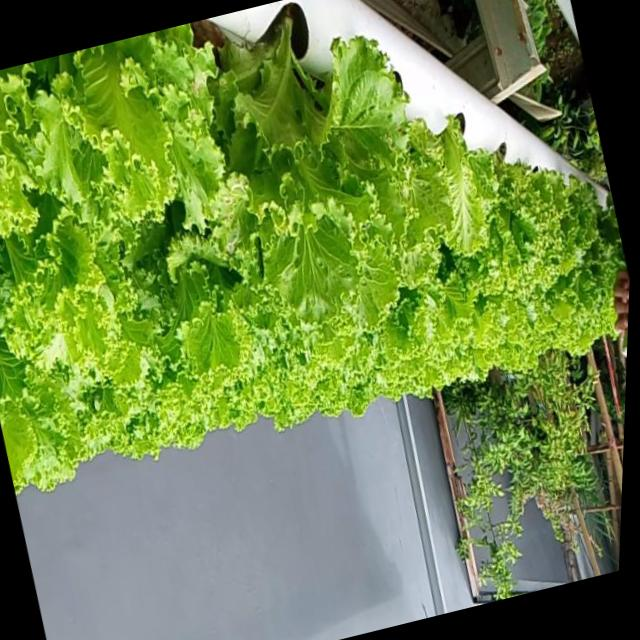Mature: (205, 4, 449, 324), (461, 147, 578, 301)
